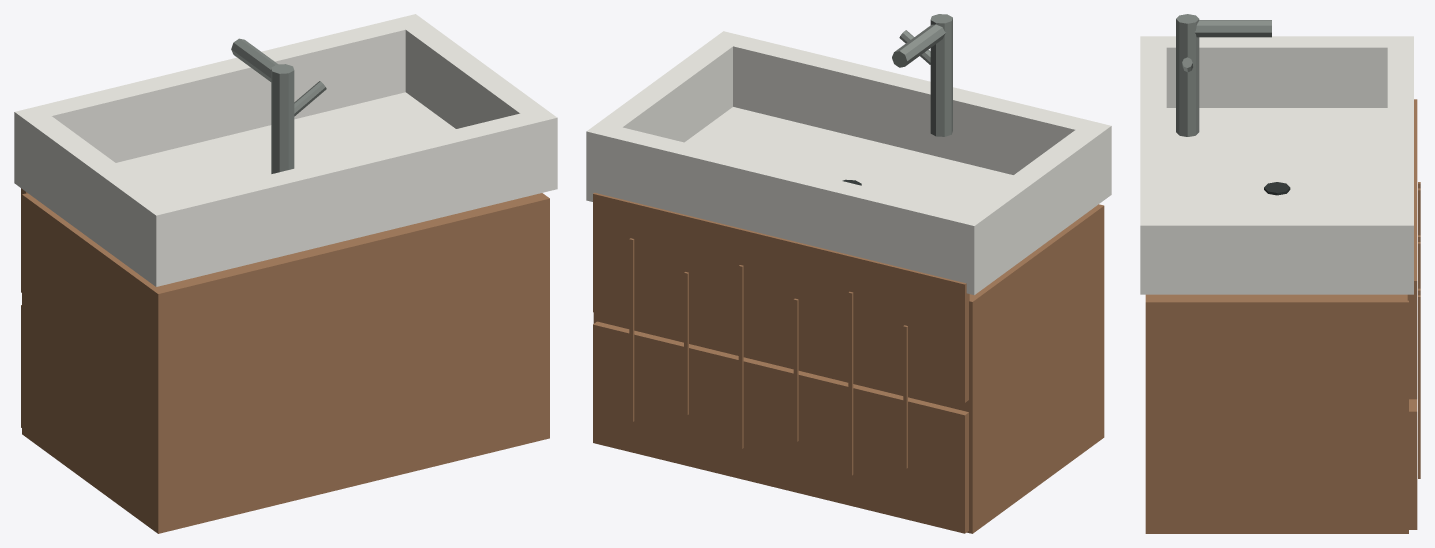
Rendered from bath-vanity.glb.
3 renders of one model, left to right at view 1: azimuth 30°, elevation 25°; view 2: azimuth 150°, elevation 25°; view 3: azimuth 270°, elevation 25°, orthographic. The views are drawn at different scales.
Visible parts, largest first — view 1: bath-vanity; view 2: bath-vanity; view 3: bath-vanity.
Boxes of the visible parts, bbox=[...] form: bath-vanity: bbox=[14, 14, 557, 533]; bath-vanity: bbox=[586, 14, 1111, 533]; bath-vanity: bbox=[1140, 14, 1420, 533].
Bounding box in the file's own units: 0.85 × 0.8366 × 0.5325.
